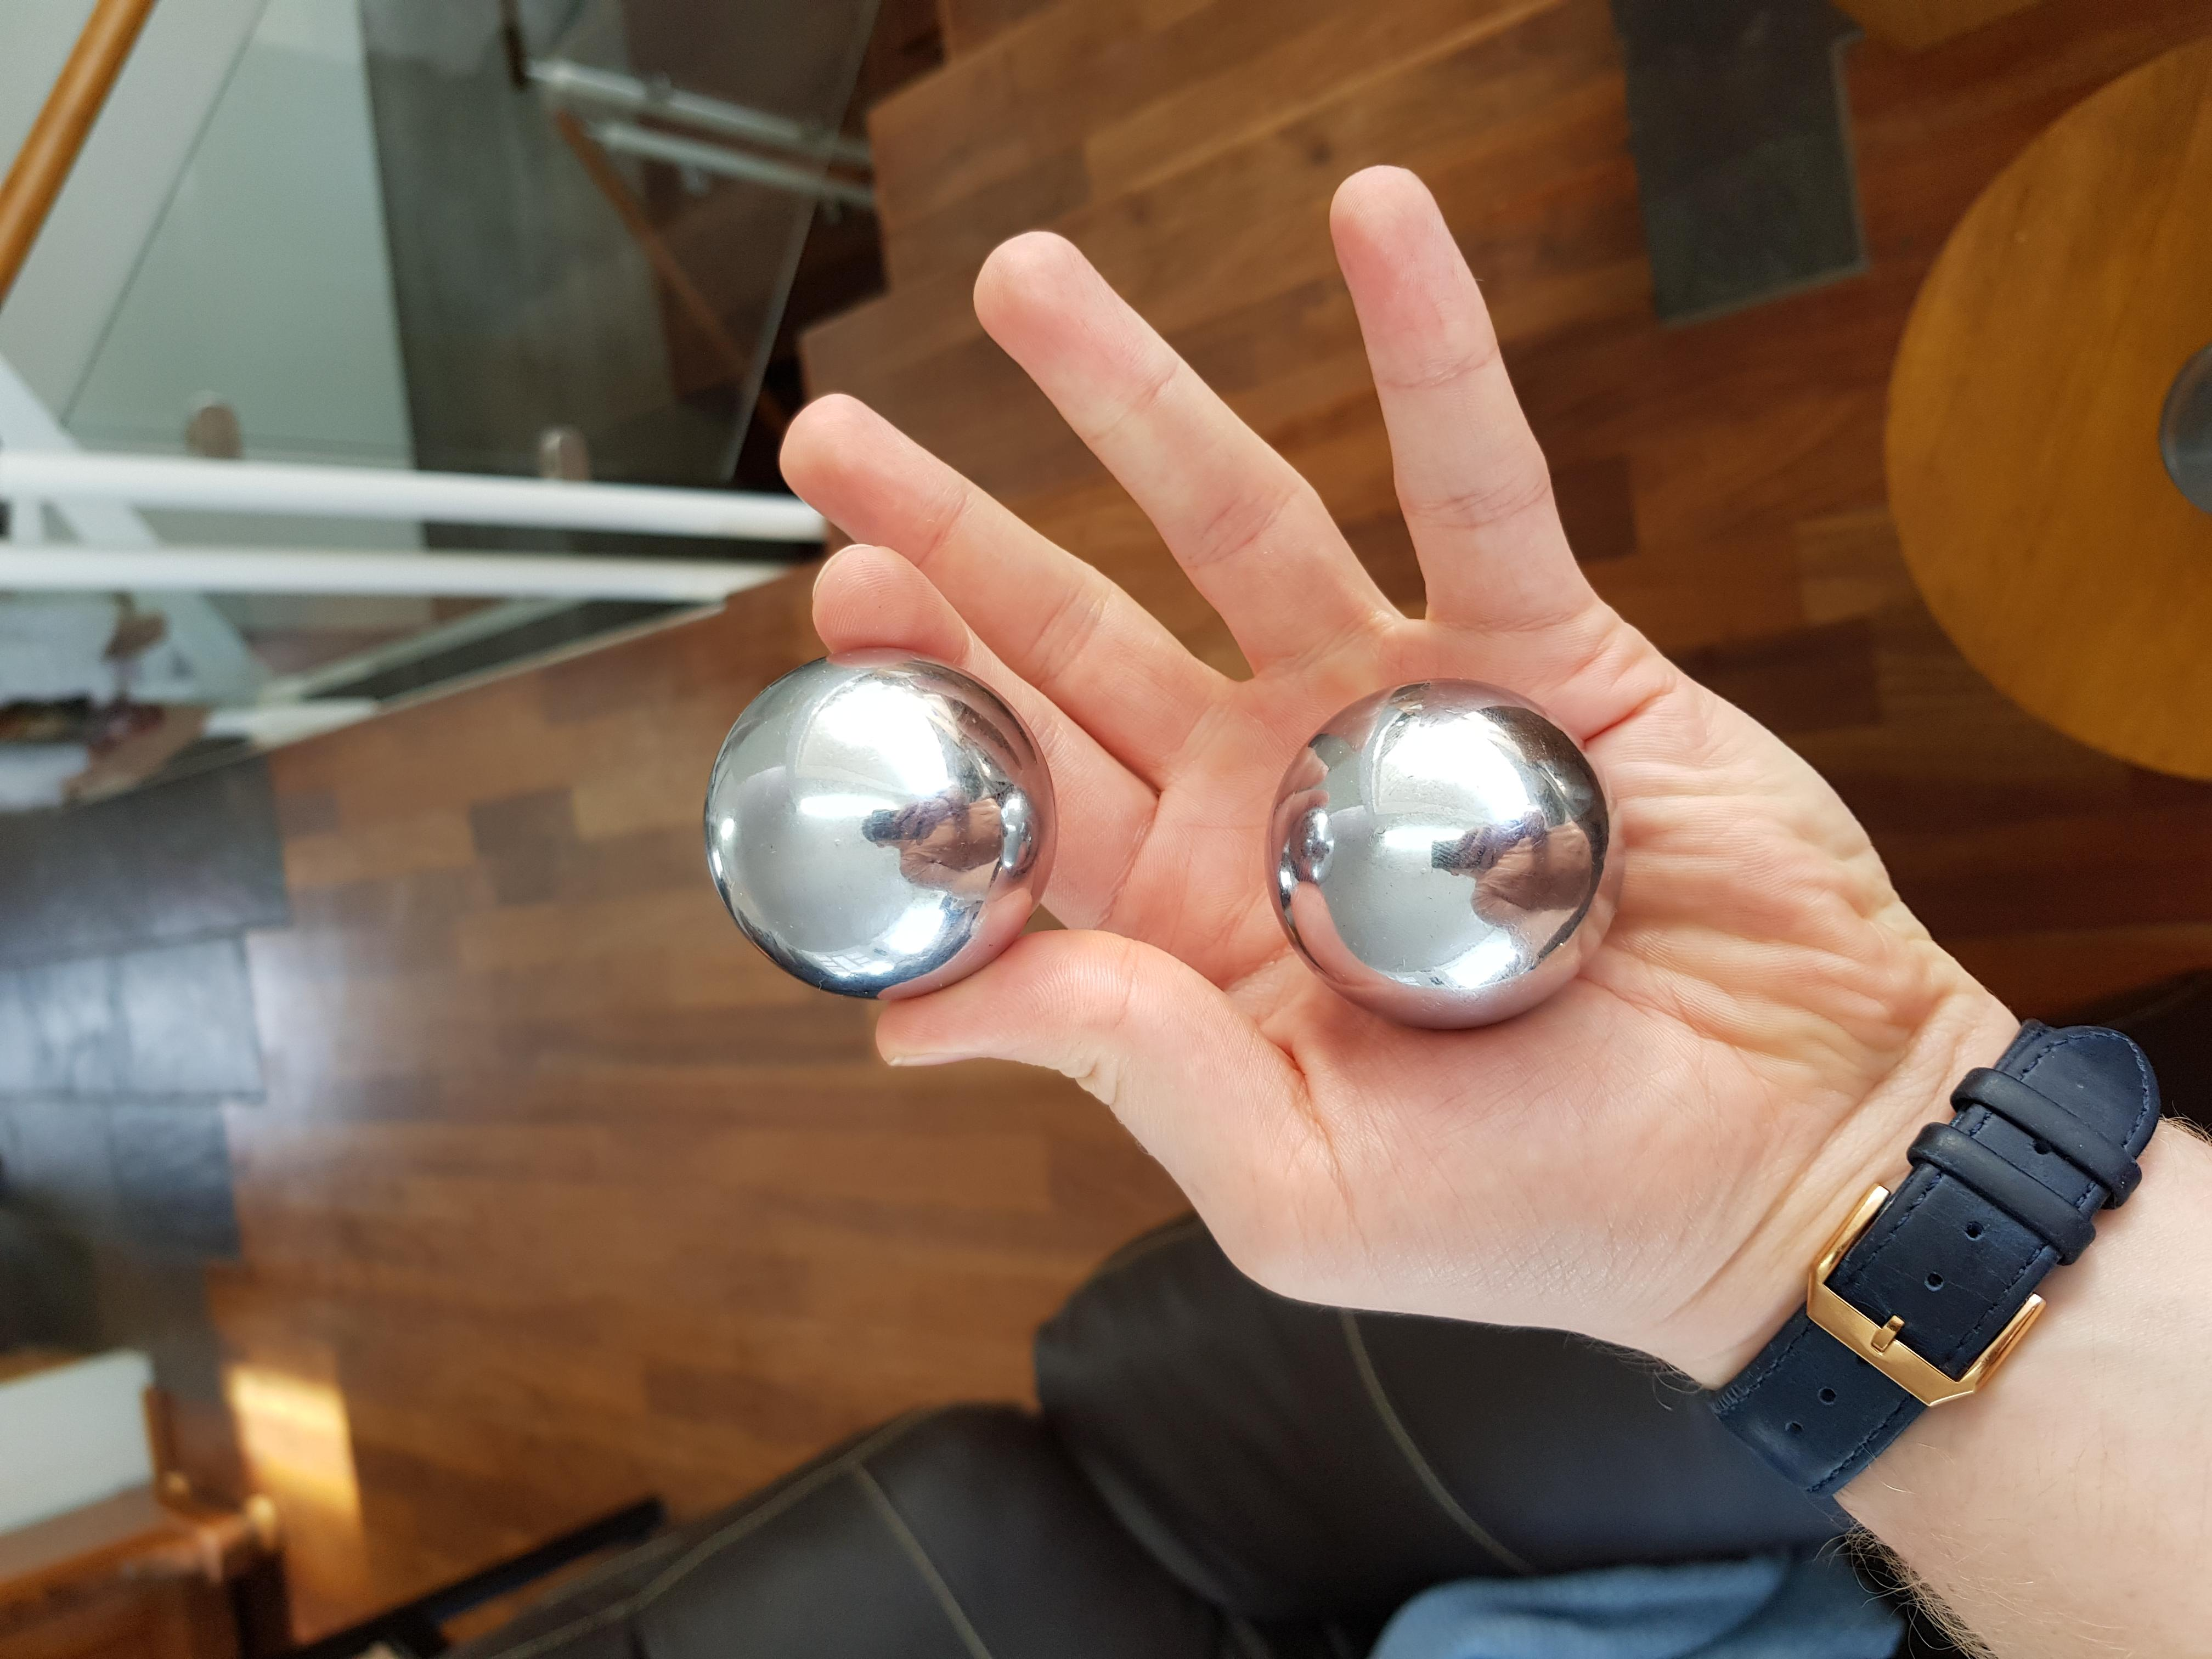Sphere: (693, 657, 1062, 1009), (1259, 678, 1618, 1039)
